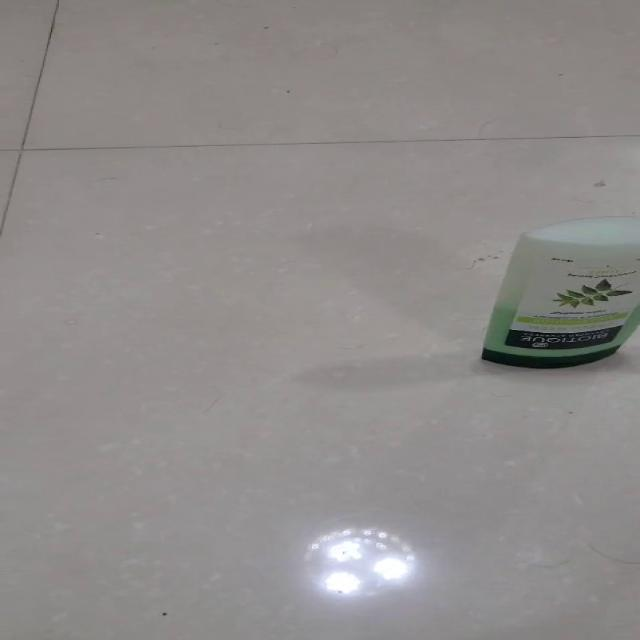plastic: (479, 215, 639, 368)
